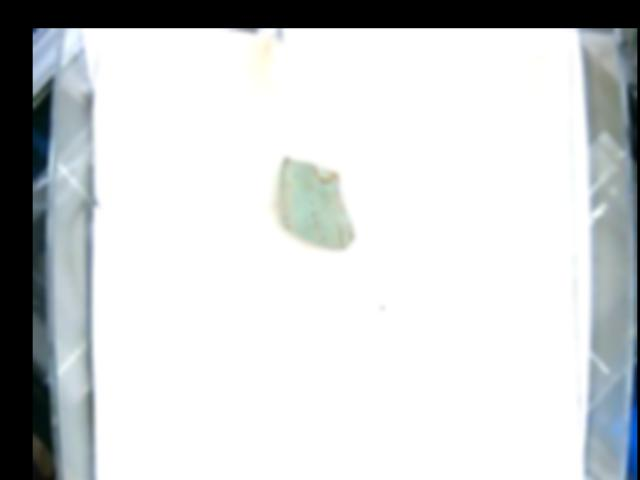China: (276, 156, 357, 254)
